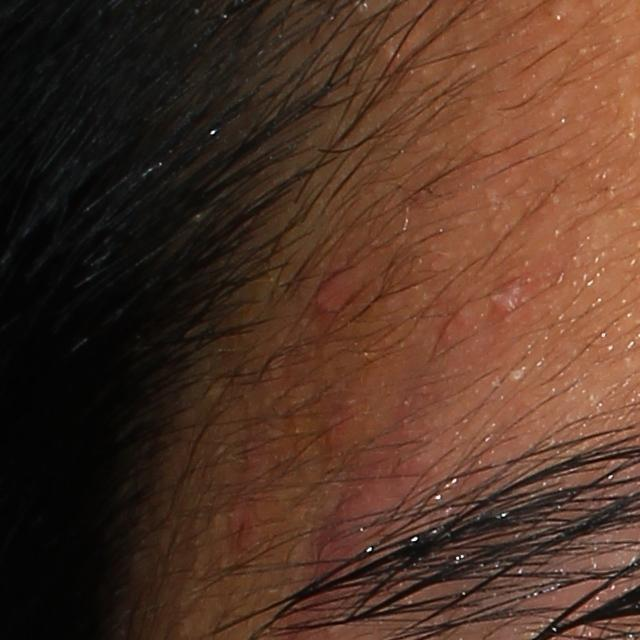papule: (303, 258, 379, 325), (226, 478, 277, 555), (490, 276, 529, 317)
